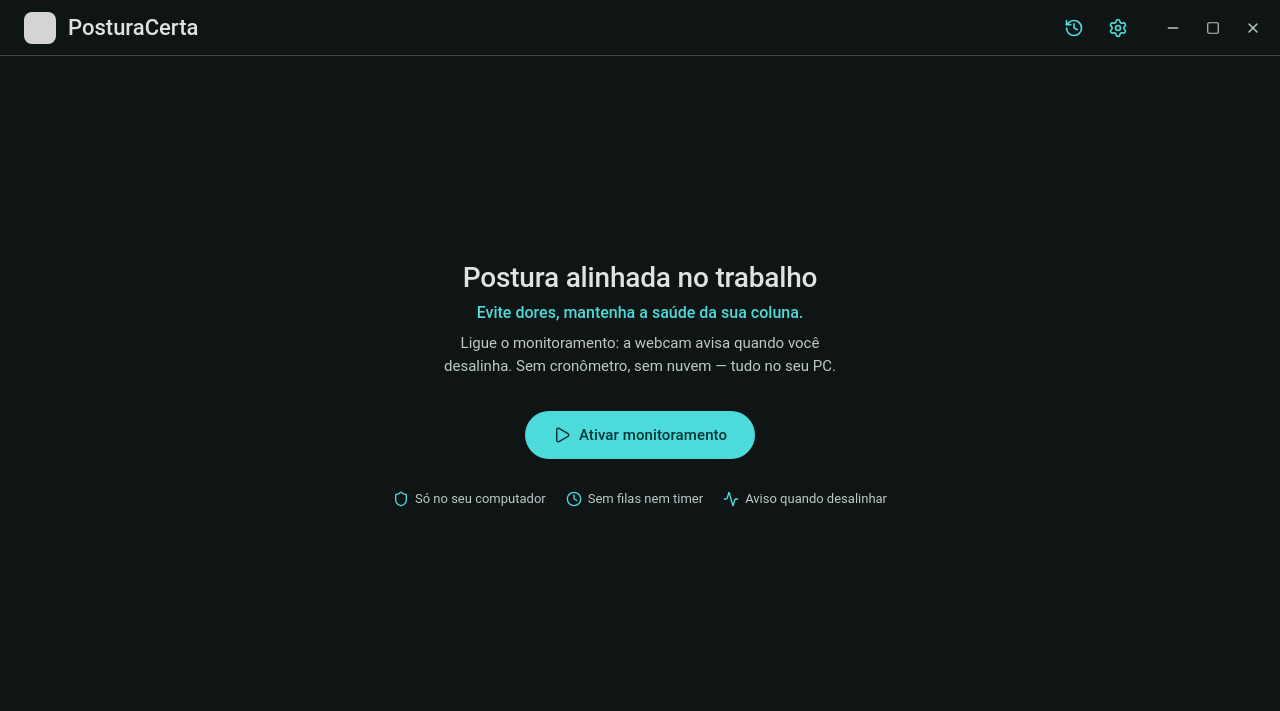
Test: App › clicking the brand logo returns to the main screen from settings
Click the button named "abrir configurações" at [1118, 28], box [1098,8,1138,48]
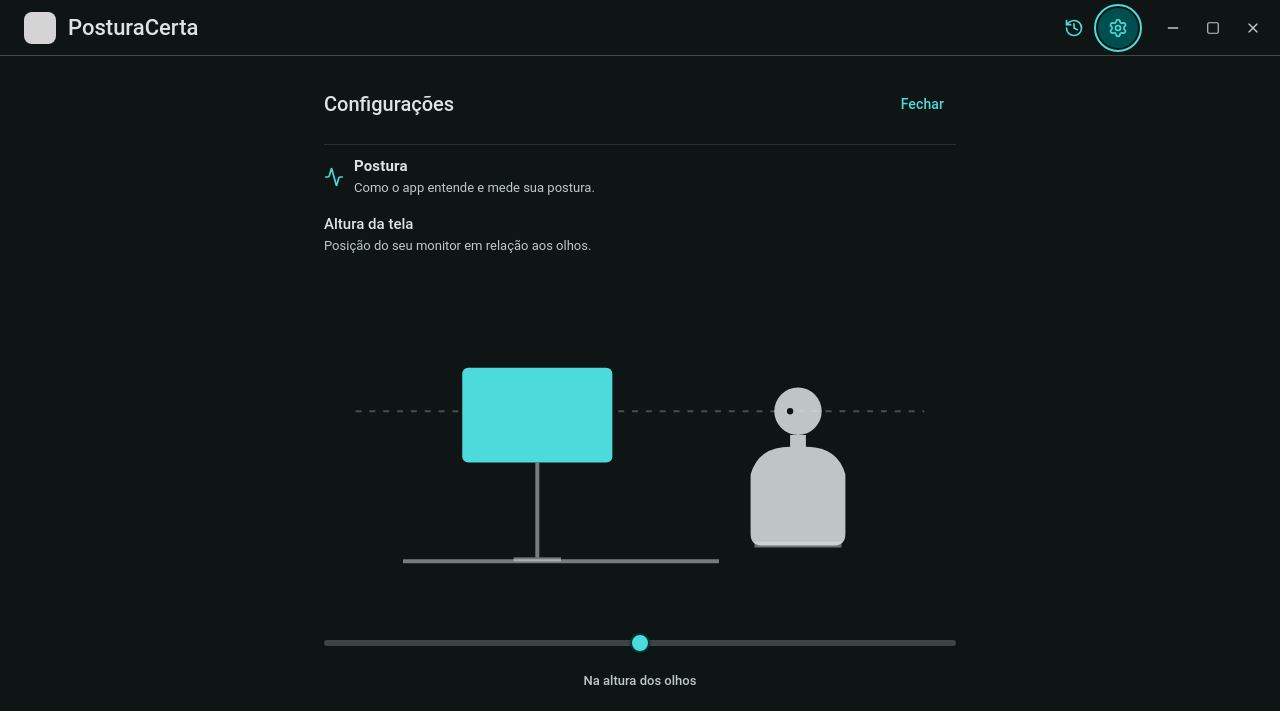
Expected: the button "Ativar monitoramento" is gone
Click the button with aria-label "voltar para a tela principal" at [111, 28], box [14,6,208,50]
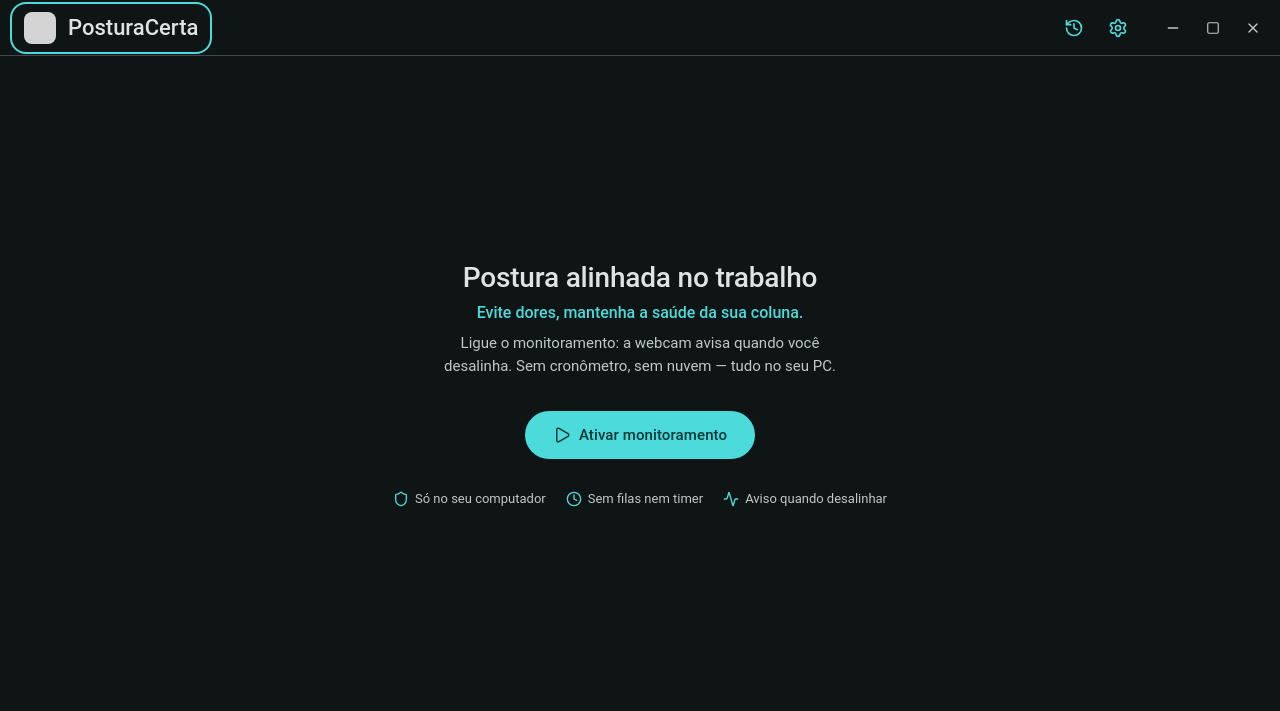
Expected: the button "Ativar monitoramento" is shown, [525,410,755,458]
